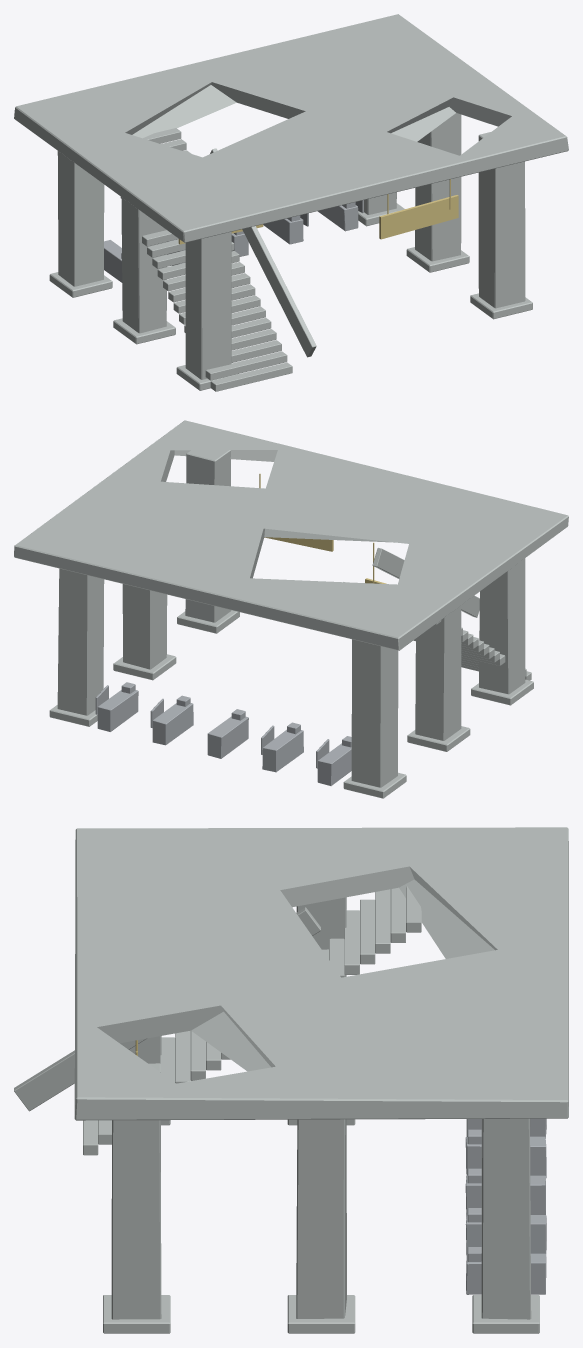
File: station_hall-DtECWcKe.glb
3 views of the same model, one above another, from view 1: azimuth 30°, elevation 25°; view 2: azimuth 150°, elevation 25°; view 3: azimuth 270°, elevation 25° (orthographic). The views are drawn at different scales.
Visible parts, largest first — view 1: HallSlab, HallColumns, HallStairs, HallGates, HallSigns; view 2: HallSlab, HallColumns, HallGates, HallStairs, HallSigns; view 3: HallSlab, HallColumns, HallStairs, HallGates.
Part boxes in pixels (<box>): HallSlab: <box>14,14,568,242</box>; HallColumns: <box>49,113,532,390</box>; HallStairs: <box>120,128,316,391</box>; HallGates: <box>104,200,363,282</box>; HallSigns: <box>178,179,458,244</box>; HallSlab: <box>14,420,568,650</box>; HallColumns: <box>49,450,533,798</box>; HallGates: <box>95,682,351,785</box>; HallStairs: <box>343,547,531,680</box>; HallSigns: <box>259,473,386,583</box>; HallSlab: <box>74,827,568,1120</box>; HallColumns: <box>103,897,539,1333</box>; HallStairs: <box>14,886,421,1155</box>; HallGates: <box>465,1118,546,1294</box>.
Bounding box in the file's own units: 21.05 × 9.09 × 18.03.
